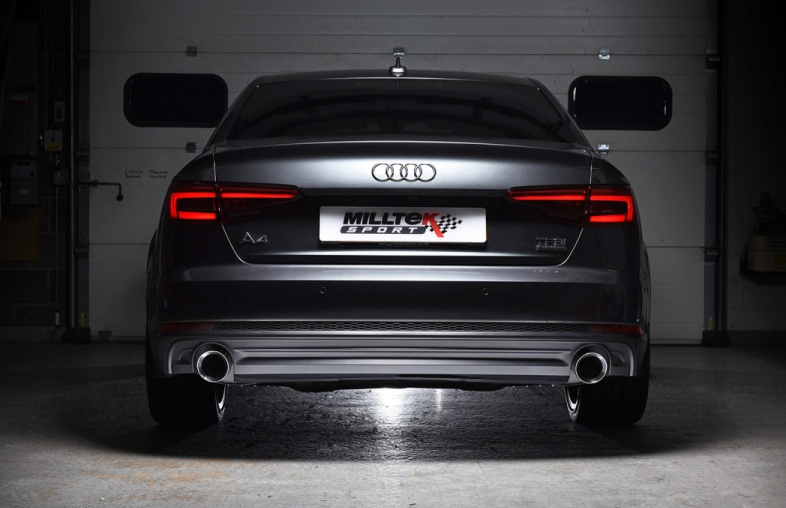audi: (367, 159, 449, 186)
